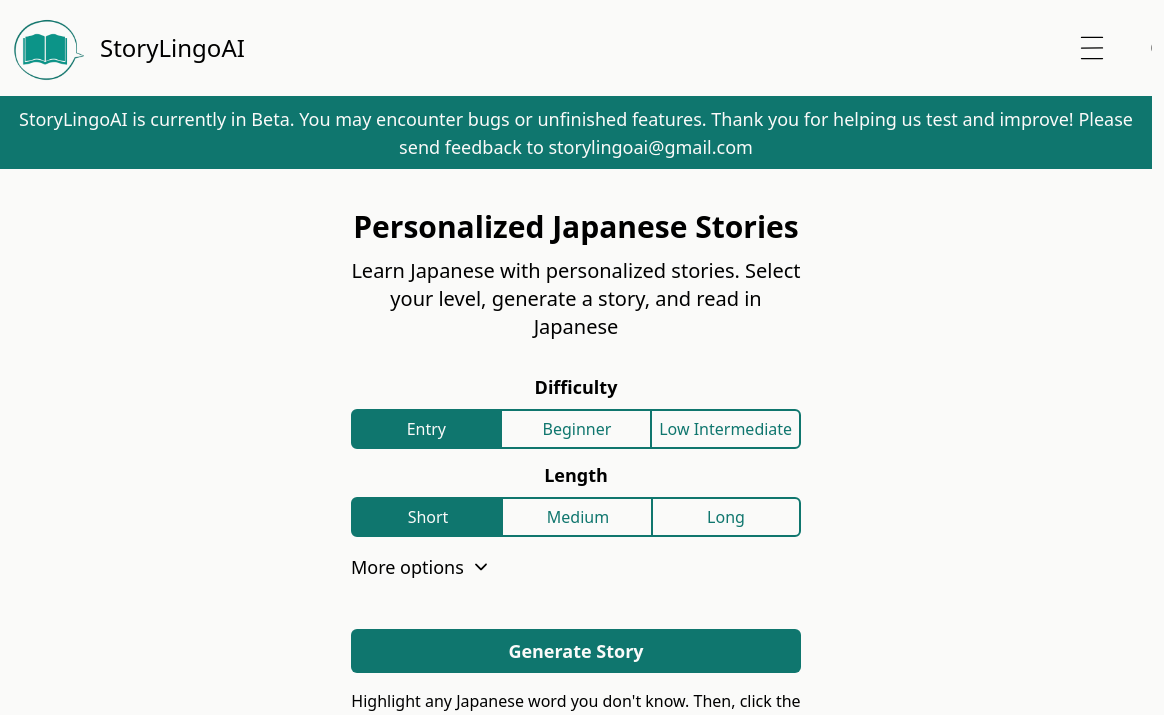
home page › click expands more options
The width and height of the screenshot is (1164, 715).
Step 1. Click the element with id "show-more-options-id" → (421, 567), box x1=351 y1=553 x2=490 y2=581
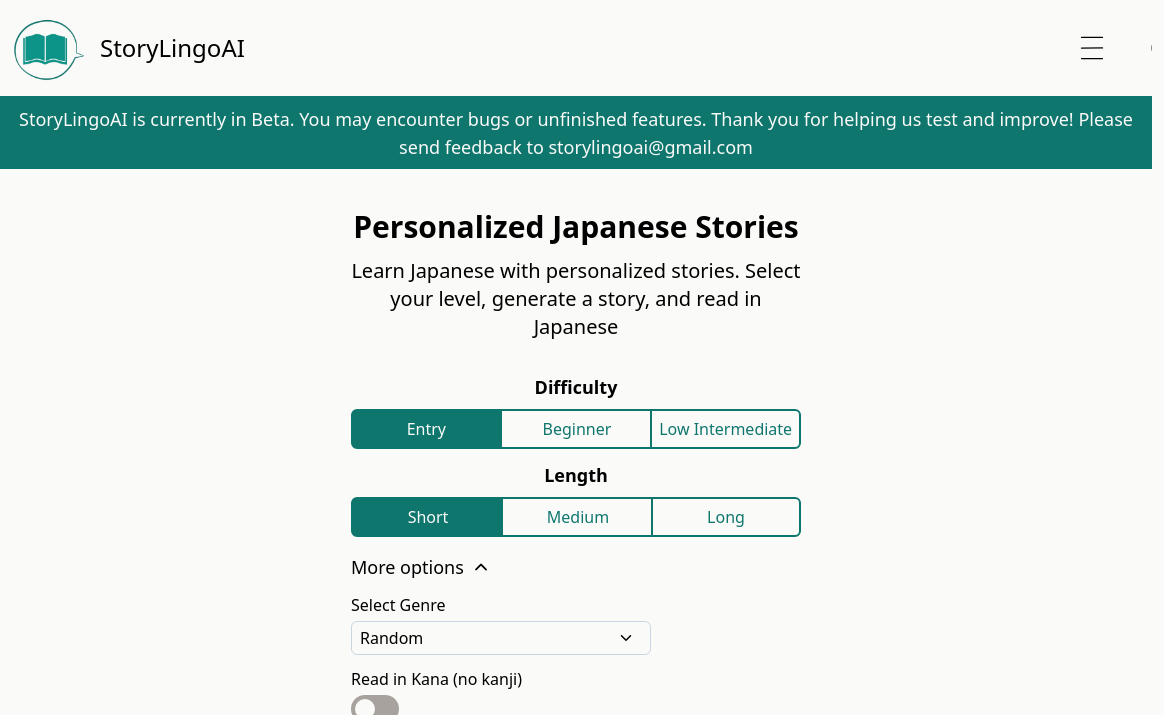
Expected: the text "Select Genre" is shown, x1=351 y1=594 x2=446 y2=616
